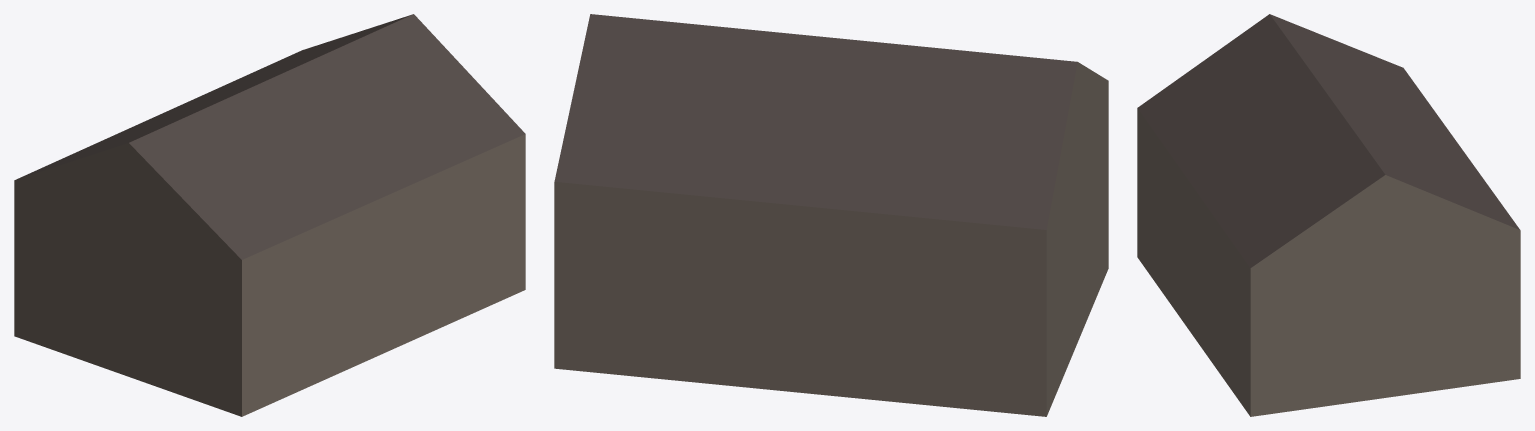
3 views of the same model, side by side, from view 1: azimuth 30°, elevation 25°; view 2: azimuth 150°, elevation 25°; view 3: azimuth 270°, elevation 25° (orthographic). The views are drawn at different scales.
Visible parts, largest first — view 1: HP-w1196401626; view 2: HP-w1196401626; view 3: HP-w1196401626.
Boxes of the visible parts, x1,y1,x2,y2 form: HP-w1196401626: (14,14,525,416); HP-w1196401626: (554,14,1108,416); HP-w1196401626: (1137,14,1520,416).
Bounding box in the file's own units: 17.36 × 9.01 × 14.01.
